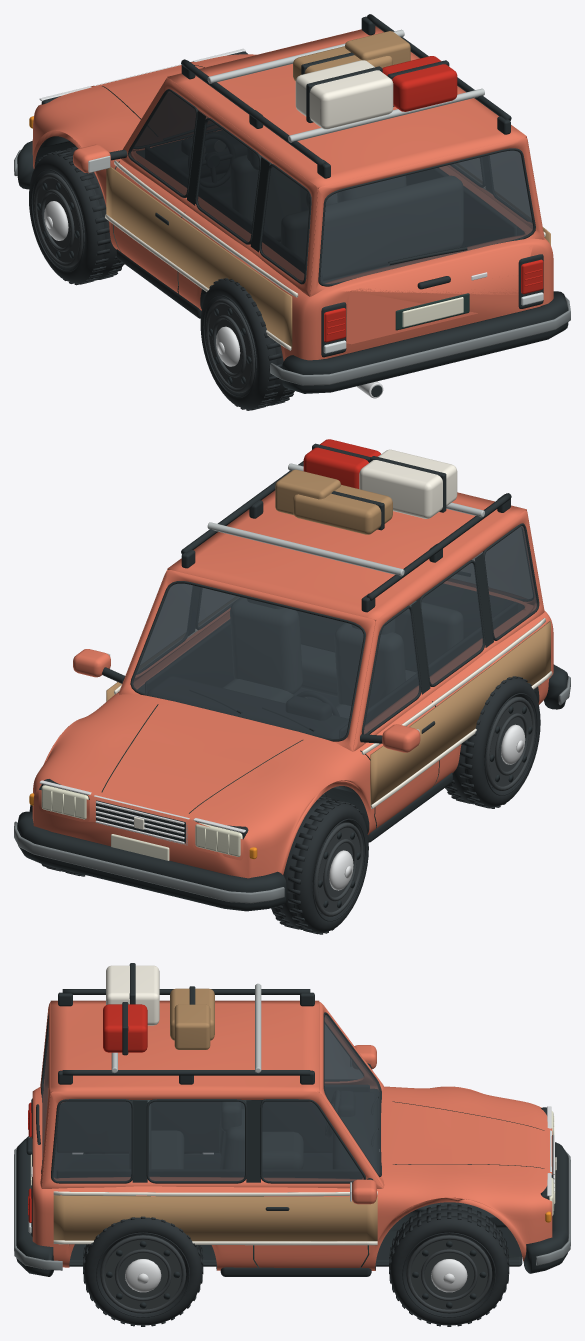
File: heron.fbx
The picture shows the model from 3 angles, top to bottom: view 1: azimuth 30°, elevation 25°; view 2: azimuth 150°, elevation 25°; view 3: azimuth 270°, elevation 25°; orthographic projection. The views are drawn at different scales.
Visible parts, largest first — view 1: Body, Wheel_FL_Mesh, Wheel_RL_Mesh; view 2: Body, Wheel_FL_Mesh, Wheel_RL_Mesh; view 3: Body, Wheel_FR_Mesh, Wheel_RR_Mesh.
Part boxes in pixels (x1=…): Body: x1=14, y1=14, x2=570, y2=398; Wheel_FL_Mesh: x1=29, y1=146, x2=124, y2=285; Wheel_RL_Mesh: x1=200, y1=278, x2=294, y2=410; Body: x1=14, y1=439, x2=570, y2=911; Wheel_FL_Mesh: x1=271, y1=796, x2=368, y2=934; Wheel_RL_Mesh: x1=445, y1=676, x2=540, y2=808; Body: x1=14, y1=963, x2=570, y2=1276; Wheel_FR_Mesh: x1=389, y1=1204, x2=509, y2=1326; Wheel_RR_Mesh: x1=83, y1=1216, x2=203, y2=1326.
Bounding box in the file's own units: 233 × 204 × 373.
